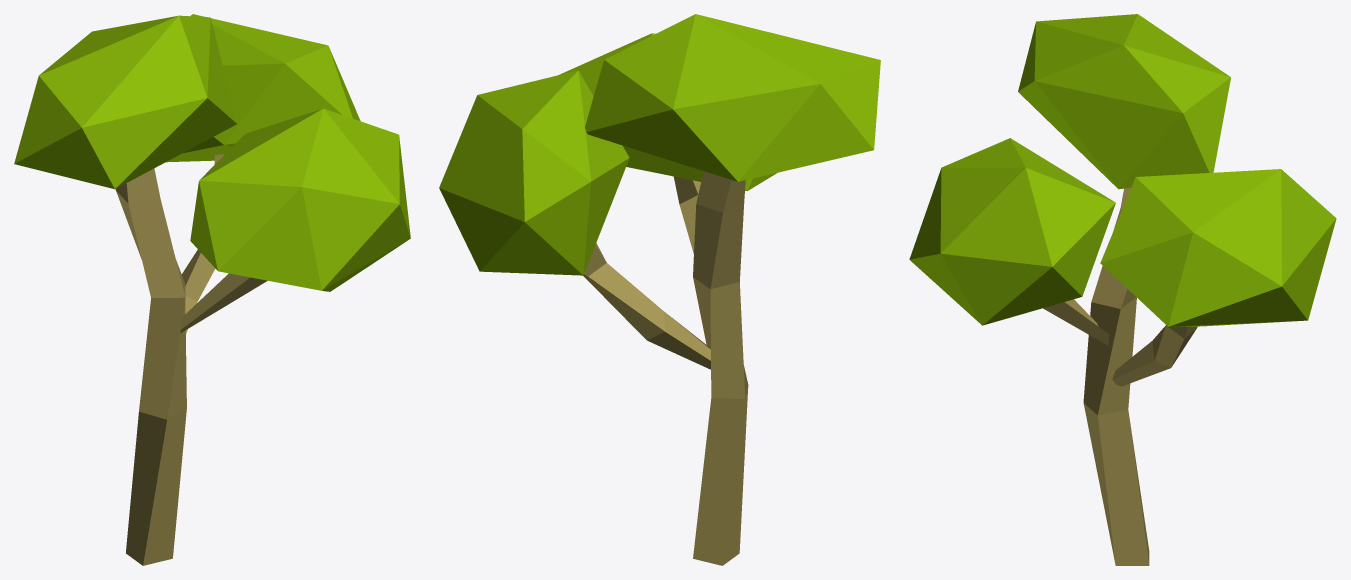
The model's file is Tree_Summer_4.fbx.
3 views of the same model, side by side, from view 1: azimuth 30°, elevation 25°; view 2: azimuth 150°, elevation 25°; view 3: azimuth 270°, elevation 25° (orthographic). The views are drawn at different scales.
Parts seen in each view (by area): view 1: Leaves.001, Leaves.002, Trunk, Leaves, Trunk.001, Trunk.002; view 2: Leaves.002, Leaves, Trunk, Trunk.002, Leaves.001, Trunk.001; view 3: Leaves, Leaves.002, Leaves.001, Trunk, Trunk.002, Trunk.001.
Part boxes in pixels (<box>): Leaves.001: <box>190,108,410,291</box>; Leaves.002: <box>14,15,237,189</box>; Trunk: <box>115,168,186,565</box>; Leaves: <box>166,14,360,162</box>; Trunk.001: <box>180,273,267,333</box>; Trunk.002: <box>182,154,224,334</box>; Leaves.002: <box>585,14,880,181</box>; Leaves: <box>439,70,629,275</box>; Trunk: <box>693,171,748,565</box>; Trunk.002: <box>583,243,710,369</box>; Leaves.001: <box>558,33,776,191</box>; Trunk.001: <box>674,176,700,253</box>; Leaves: <box>1100,169,1336,326</box>; Leaves.002: <box>1018,14,1230,189</box>; Leaves.001: <box>909,138,1115,325</box>; Trunk: <box>1083,188,1149,565</box>; Trunk.002: <box>1112,325,1197,386</box>; Trunk.001: <box>1043,299,1109,345</box>.
Size of the model in its own units: 239 by 321 by 237.
